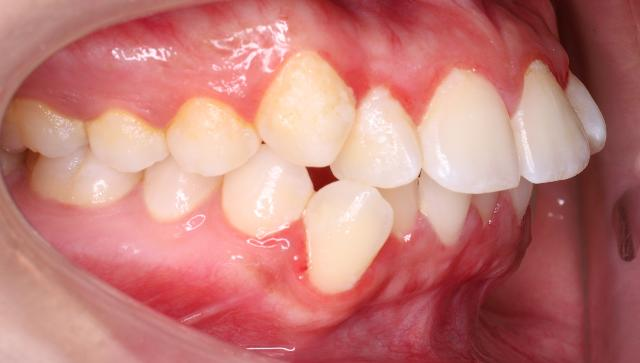canine class II 1/4: (216, 43, 394, 282)
molar class III 1/2: (3, 96, 138, 210)
